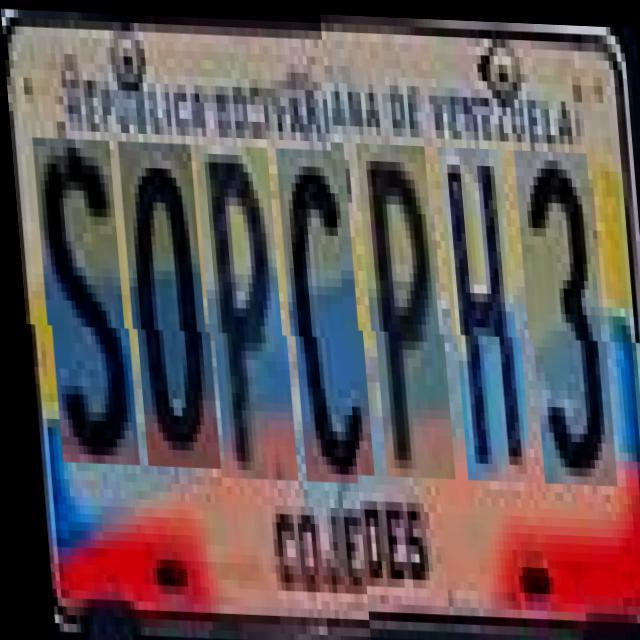3: (516, 154, 610, 490)
C: (278, 146, 368, 481)
H: (440, 152, 525, 486)
O: (120, 140, 212, 467)
P: (197, 143, 290, 479), (358, 149, 448, 484)
S: (34, 137, 132, 464)
